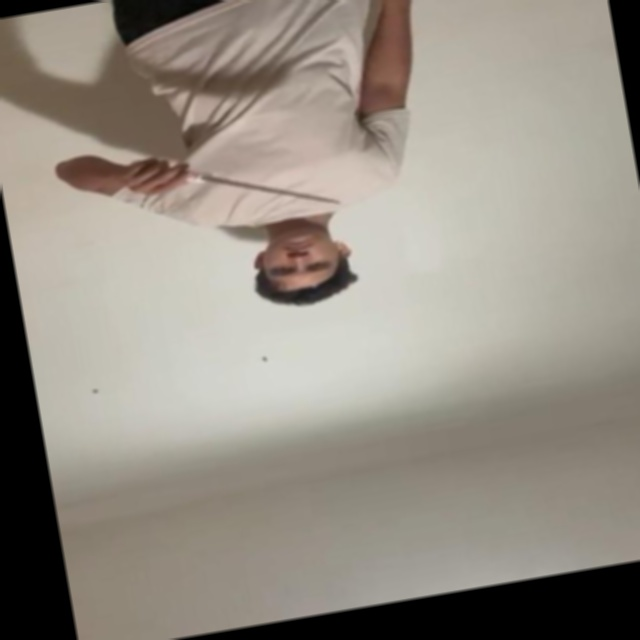Sharp-Object: (207, 157, 340, 228)
